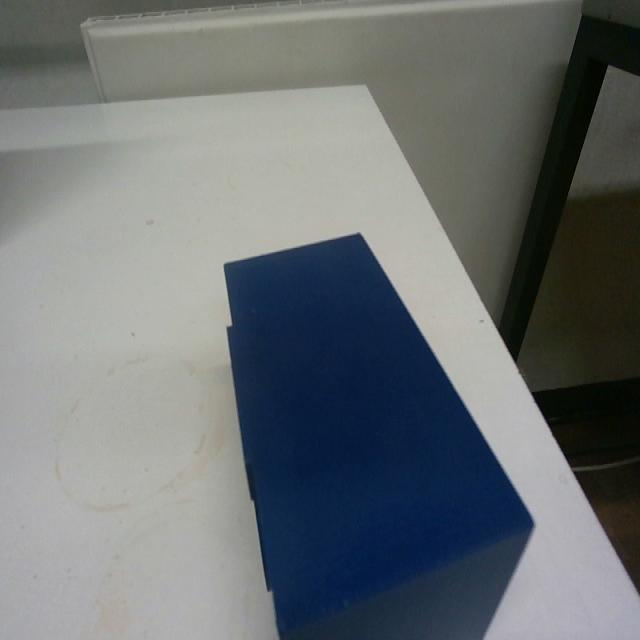Blue Cuboid: (220, 228, 536, 637)
